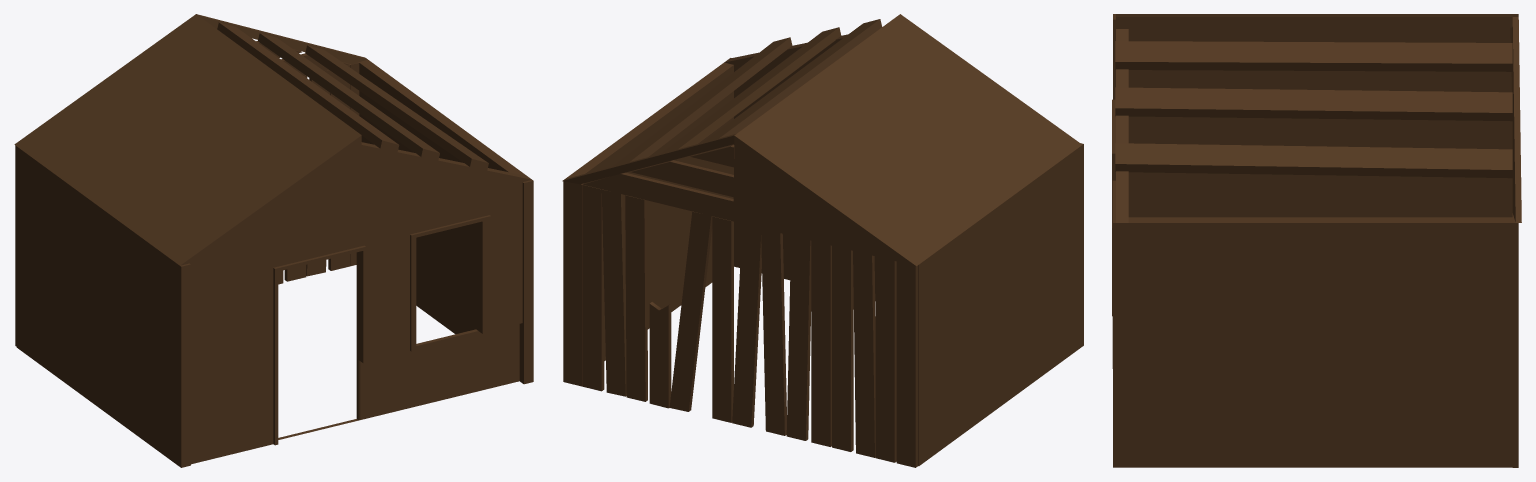
File: Shack.fbx
3 views of the same model, side by side, from view 1: azimuth 30°, elevation 25°; view 2: azimuth 150°, elevation 25°; view 3: azimuth 270°, elevation 25° (orthographic). The views are drawn at different scales.
Parts seen in each view (by area): view 1: Shack_walls_geo, Shack_roof_surface_geo, Roofplanks_geo, Shack_wallback_geo; view 2: Shack_wallback_geo, Shack_roof_surface_geo, Shack_walls_geo, Roofplanks_geo, Shack_roofplanks2_geo; view 3: Shack_walls_geo, Roofplanks_geo, Shack_roof_surface_geo, Shack_wallback_geo.
Part boxes in pixels (left/top/right/bottom): Shack_walls_geo: left=16, top=60, right=533, bottom=467; Shack_roof_surface_geo: left=14, top=14, right=531, bottom=265; Roofplanks_geo: left=217, top=22, right=488, bottom=171; Shack_wallback_geo: left=15, top=59, right=368, bottom=346; Shack_wallback_geo: left=563, top=178, right=918, bottom=467; Shack_roof_surface_geo: left=562, top=14, right=1082, bottom=266; Shack_walls_geo: left=566, top=58, right=1083, bottom=465; Roofplanks_geo: left=613, top=19, right=881, bottom=166; Shack_roofplanks2_geo: left=583, top=145, right=734, bottom=221; Shack_walls_geo: left=1112, top=14, right=1512, bottom=467; Roofplanks_geo: left=1115, top=41, right=1512, bottom=178; Shack_roof_surface_geo: left=1116, top=14, right=1521, bottom=222; Shack_wallback_geo: left=1512, top=213, right=1518, bottom=467.
Size of the model in its own units: 0.3781 by 0.2956 by 0.313.
